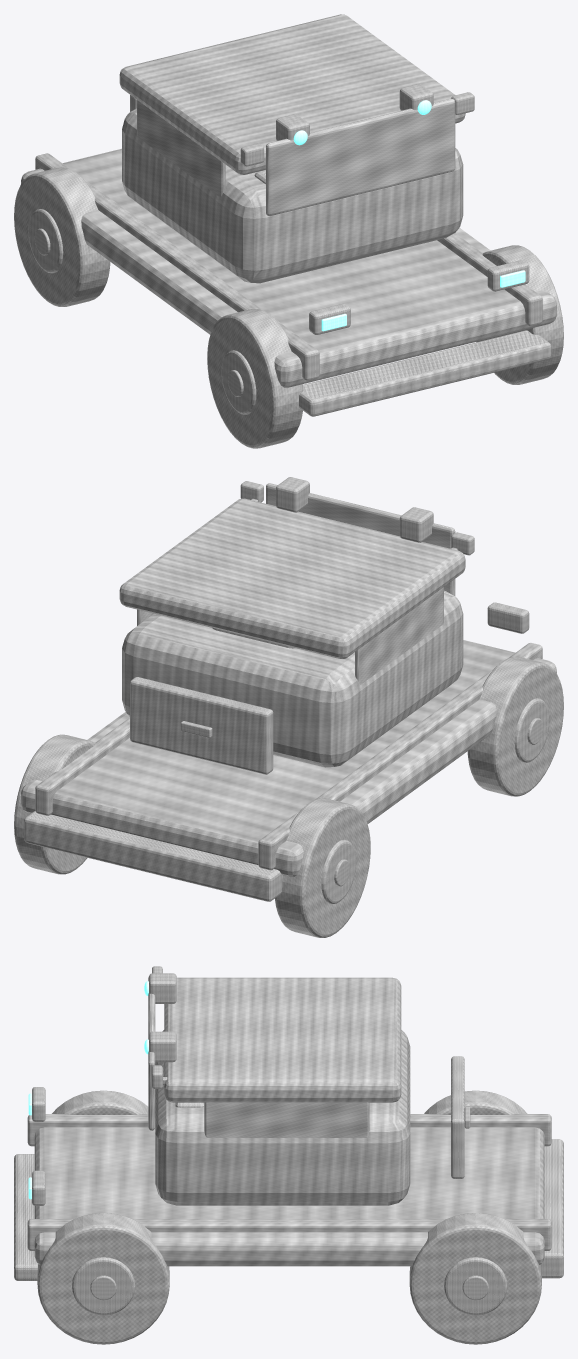
File: explorer_variant_d.glb
3 renders of one model, top to bottom at view 1: azimuth 30°, elevation 25°; view 2: azimuth 150°, elevation 25°; view 3: azimuth 270°, elevation 25°, orthographic. The views are drawn at different scales.
Parts seen in each view (by area): view 1: Tubular chassis.003, Upper cockpit frame, Central cockpit pod, Front visor, Front skid plate.003, Off-road tire.012, Off-road tire.013, Longitudinal frame rail.006, Off-road tire.014, Side glazing, Longitudinal frame rail.007, Wheel hub.012 (+5 smaller); view 2: Upper cockpit frame, Tubular chassis.003, Central cockpit pod, Rear storage hatch.003, Rear bumper.003, Off-road tire.013, Off-road tire.012, Longitudinal frame rail.006, Off-road tire.015, Side glazing, Front visor, Longitudinal frame rail.007 (+5 smaller); view 3: Tubular chassis.003, Upper cockpit frame, Central cockpit pod, Off-road tire.014, Off-road tire.015, Side glazing.001, Longitudinal frame rail.007, Longitudinal frame rail.006, Rear bumper.003, Wheel hub.014, Wheel hub.015, Front skid plate.003 (+10 smaller).
Boxes of the visible parts, x1,y1,x2,y2 form: Tubular chassis.003: (21, 148, 556, 387); Upper cockpit frame: (119, 14, 465, 174); Central cockpit pod: (122, 108, 463, 283); Front visor: (266, 98, 455, 215); Front skid plate.003: (299, 330, 551, 416); Off-road tire.012: (207, 309, 303, 448); Off-road tire.013: (14, 167, 110, 306); Longitudinal frame rail.006: (35, 153, 319, 380); Off-road tire.014: (476, 245, 563, 384); Side glazing: (137, 100, 225, 197); Longitudinal frame rail.007: (437, 233, 542, 326); Wheel hub.012: (221, 350, 256, 414); Upper cockpit frame: (119, 498, 465, 658); Tubular chassis.003: (21, 640, 556, 876); Central cockpit pod: (122, 590, 463, 767); Rear storage hatch.003: (130, 677, 273, 774); Rear bumper.003: (24, 811, 282, 901); Off-road tire.013: (275, 798, 370, 937); Off-road tire.012: (467, 657, 563, 796); Longitudinal frame rail.006: (258, 643, 542, 870); Off-road tire.015: (14, 734, 95, 874); Side glazing: (355, 587, 443, 684); Front visor: (266, 483, 455, 595); Longitudinal frame rail.007: (35, 717, 129, 815); Tubular chassis.003: (34, 1127, 544, 1266); Upper cockpit frame: (164, 977, 401, 1102); Central cockpit pod: (155, 1030, 410, 1205); Off-road tire.014: (37, 1213, 169, 1344); Off-road tire.015: (409, 1213, 541, 1344); Side glazing.001: (204, 1102, 369, 1137); Longitudinal frame rail.007: (27, 1219, 551, 1250); Longitudinal frame rail.006: (27, 1114, 551, 1146); Rear bumper.003: (540, 1139, 563, 1278); Wheel hub.014: (72, 1257, 135, 1315); Wheel hub.015: (444, 1257, 507, 1315); Front skid plate.003: (14, 1154, 38, 1280).
Size of what is drawn, in the model's own units: 2.44 by 2.17 by 3.99.
9 materials, 9 textured.
